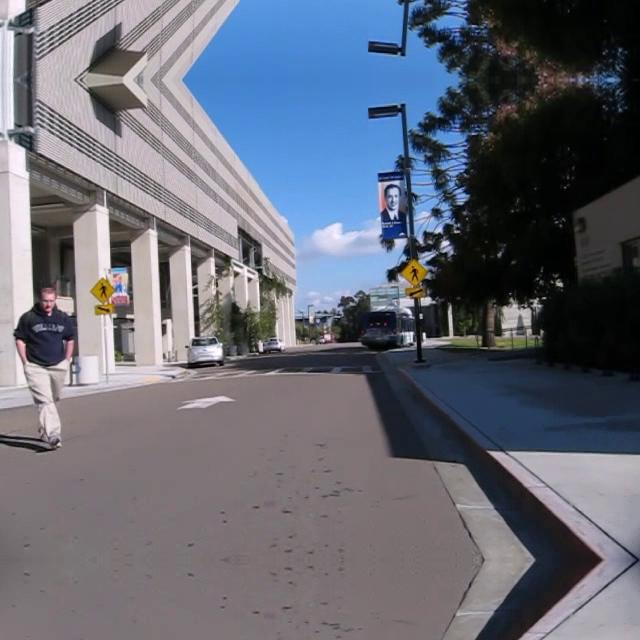pedestrianCrossing: (398, 257, 428, 287), (88, 276, 116, 304)
